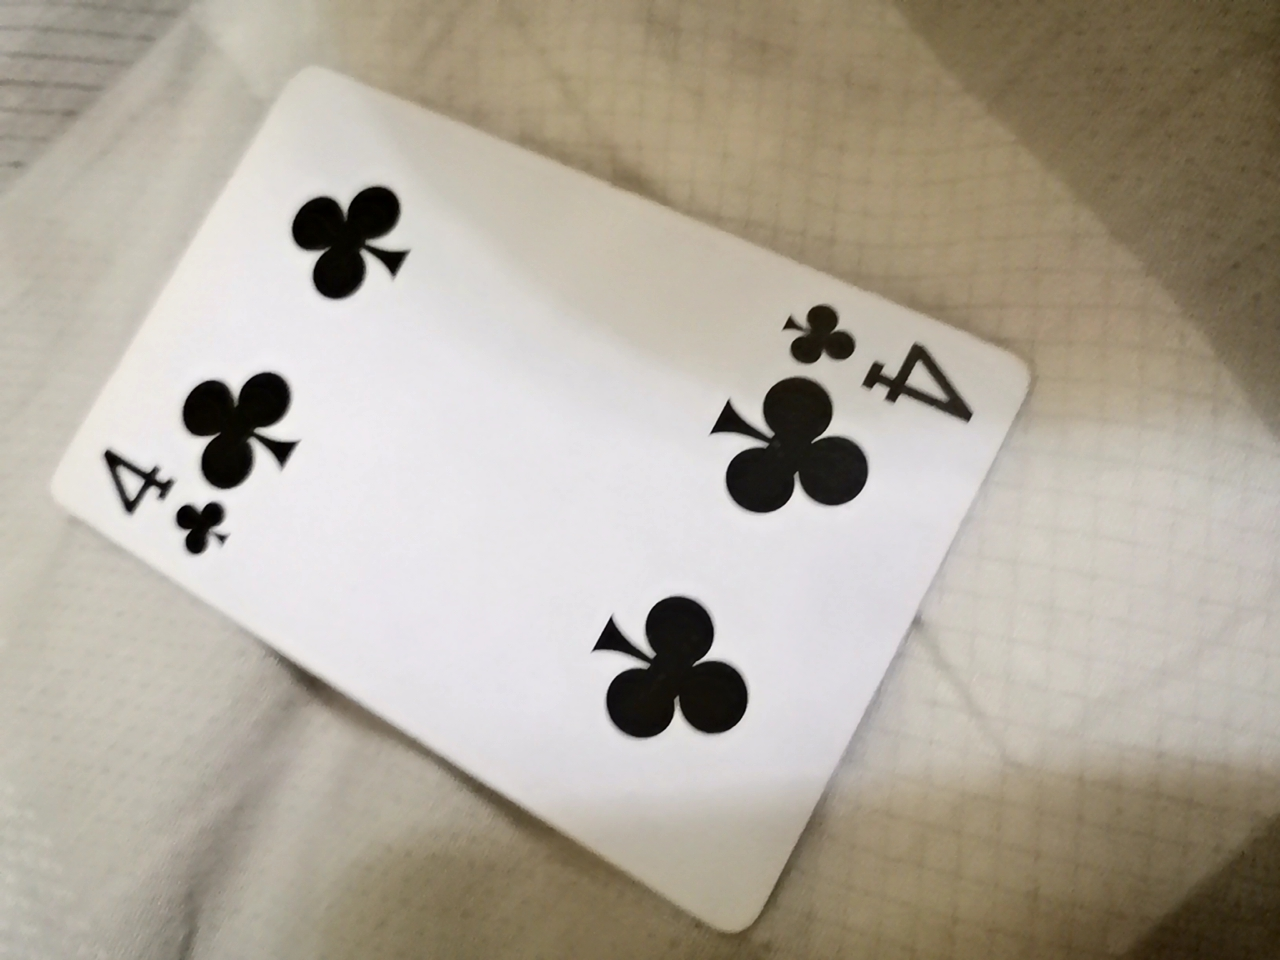mh 4: (56, 65, 1036, 867)
